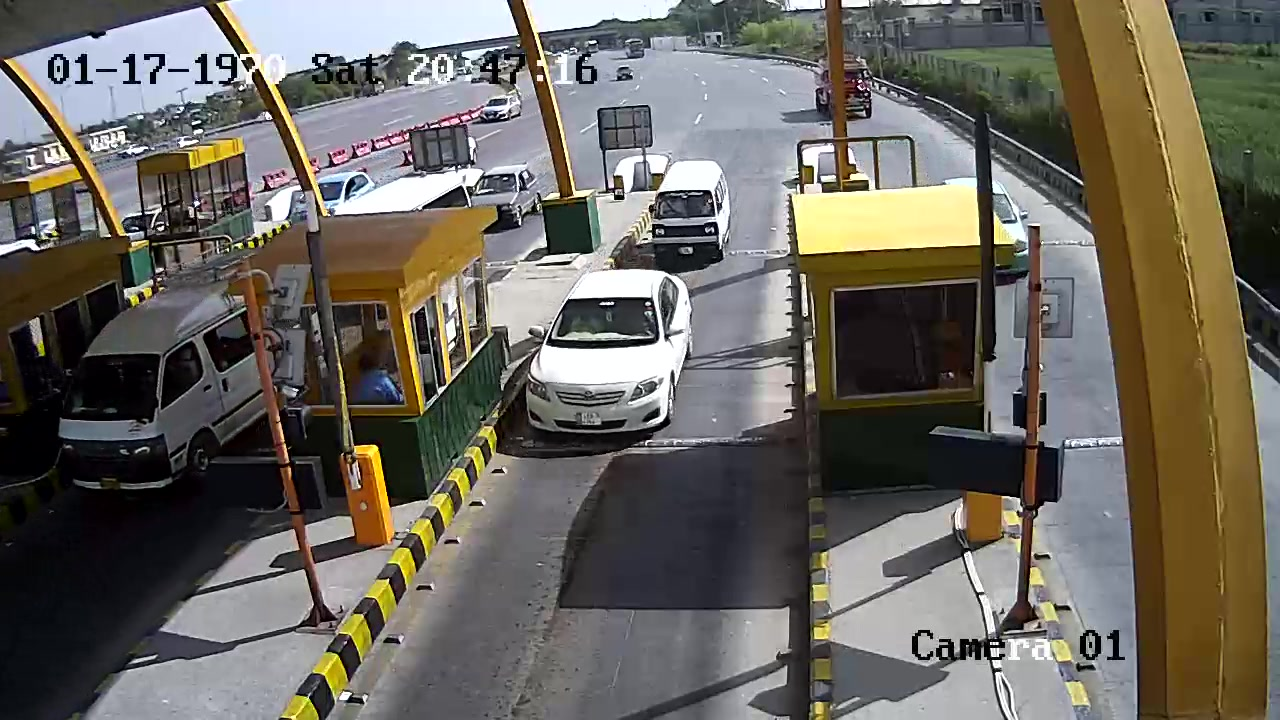F1: (520, 268, 703, 440), (643, 153, 749, 263)
